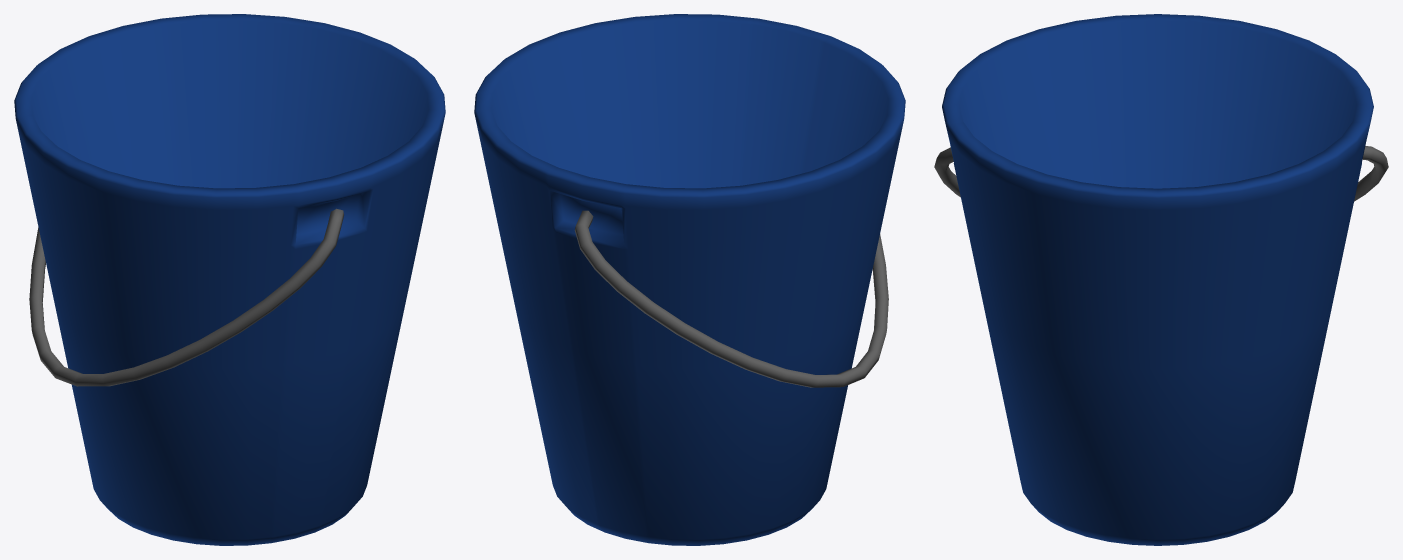
The model's file is balde.fbx.
3 views of the same model, side by side, from view 1: azimuth 30°, elevation 25°; view 2: azimuth 150°, elevation 25°; view 3: azimuth 270°, elevation 25° (orthographic).
Visible parts, largest first — view 1: BézierCircle; view 2: BézierCircle; view 3: BézierCircle.
Boxes of the visible parts, x1=… form: BézierCircle: x1=14, y1=14, x2=445, y2=545; BézierCircle: x1=474, y1=14, x2=905, y2=545; BézierCircle: x1=934, y1=14, x2=1388, y2=545.
Bounding box in the file's own units: 43.08 × 42.59 × 45.31.
